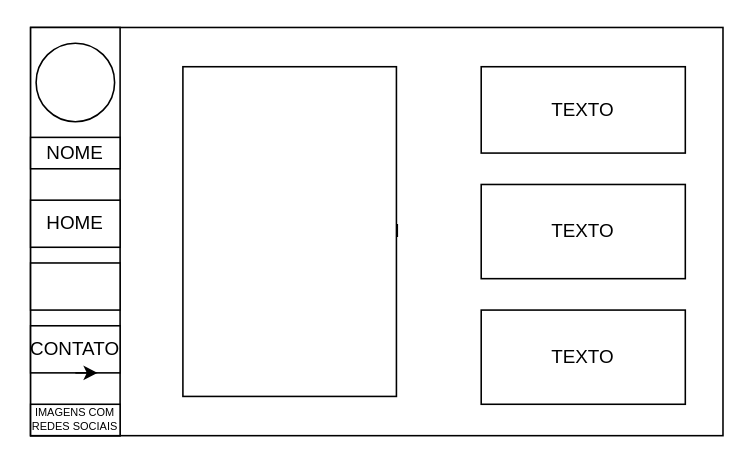
This 750x463 diagram has some shape labels left out. Each missing label, with the centre of its shape:
"FOTO" belongs at (x=75, y=82).
"IMAGEM" belongs at (x=288, y=230).
"SERVIÇOS" belongs at (x=74, y=285).
